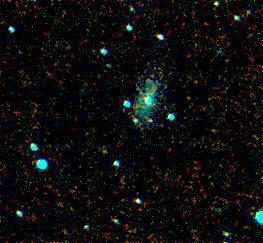star: (138, 106, 168, 136)
